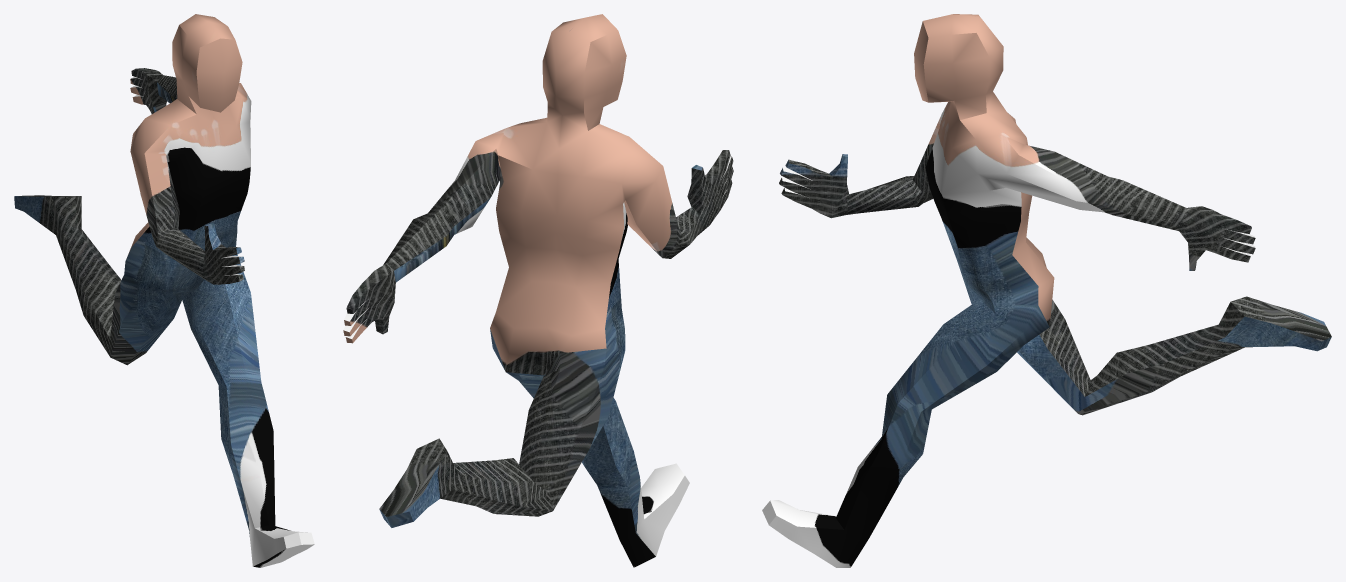
File: human29.obj
The picture shows the model from 3 angles, left to right: view 1: azimuth 30°, elevation 25°; view 2: azimuth 150°, elevation 25°; view 3: azimuth 270°, elevation 25°; orthographic projection. The views are drawn at different scales.
Parts seen in each view (by area): view 1: HumanMale; view 2: HumanMale; view 3: HumanMale.
Part boxes in pixels (bbox=[...]): HumanMale: bbox=[14, 14, 314, 567]; HumanMale: bbox=[343, 14, 733, 567]; HumanMale: bbox=[762, 14, 1331, 567].
Size of the model in its own units: 0.3596 by 1.22 by 1.14.
Materials: 1 (1 with a texture image).
